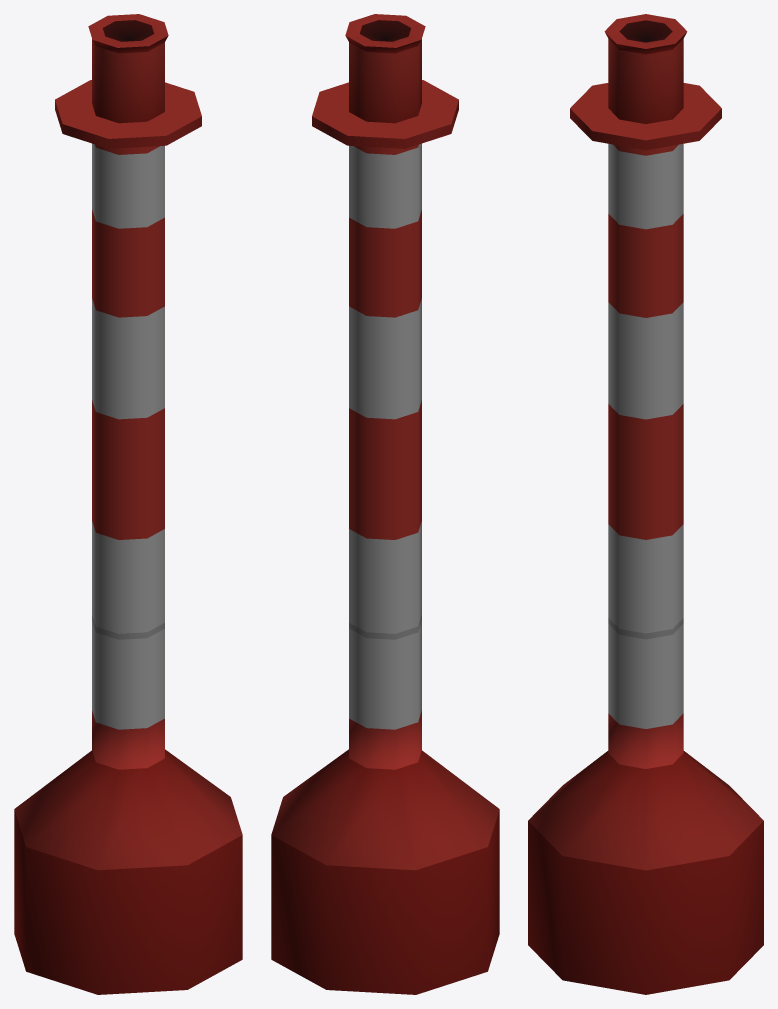
File: buildings-industrial-factorysmokestack_v1.glb
3 views of the same model, side by side, from view 1: azimuth 30°, elevation 25°; view 2: azimuth 150°, elevation 25°; view 3: azimuth 270°, elevation 25° (orthographic).
Parts seen in each view (by area): view 1: FactorySmokestack.001; view 2: FactorySmokestack.001; view 3: FactorySmokestack.001.
Part boxes in pixels (x1,y1,x2,y2): FactorySmokestack.001: (14, 14, 242, 994); FactorySmokestack.001: (271, 14, 499, 994); FactorySmokestack.001: (528, 14, 763, 994).
Bounding box in the file's own units: 15.37 × 65.68 × 15.37.
